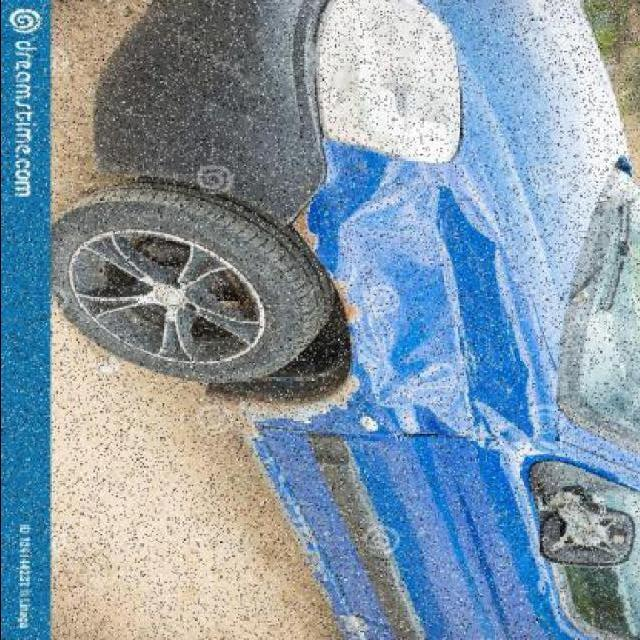RunningBoard-Dent: (244, 439, 304, 547), (297, 543, 361, 640)
Sidemirror-Damage: (520, 479, 640, 584)
fender-dent: (239, 168, 532, 432)
